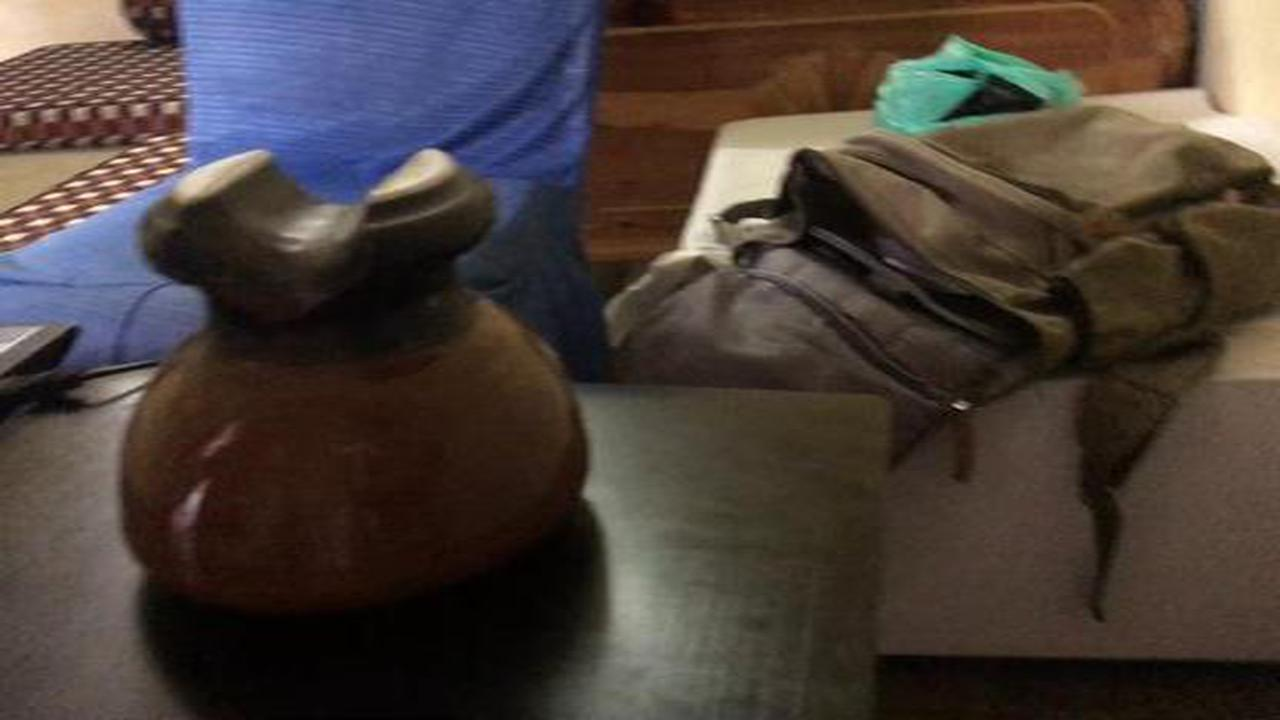insulator_pin: (93, 130, 616, 646)
